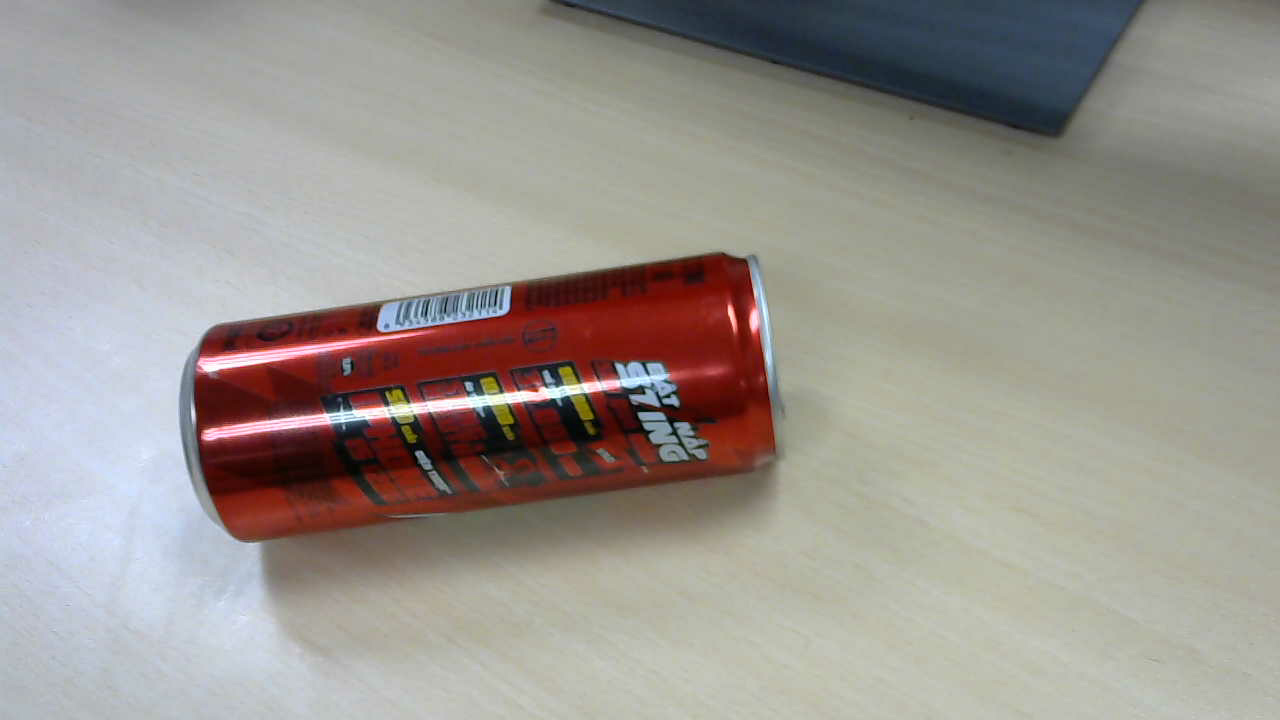Sting: (181, 257, 791, 552)
